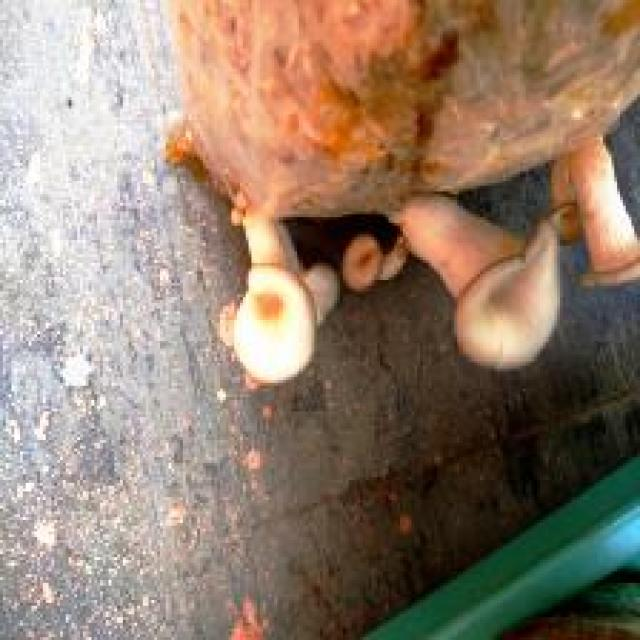chanterelle: (151, 0, 640, 386)
